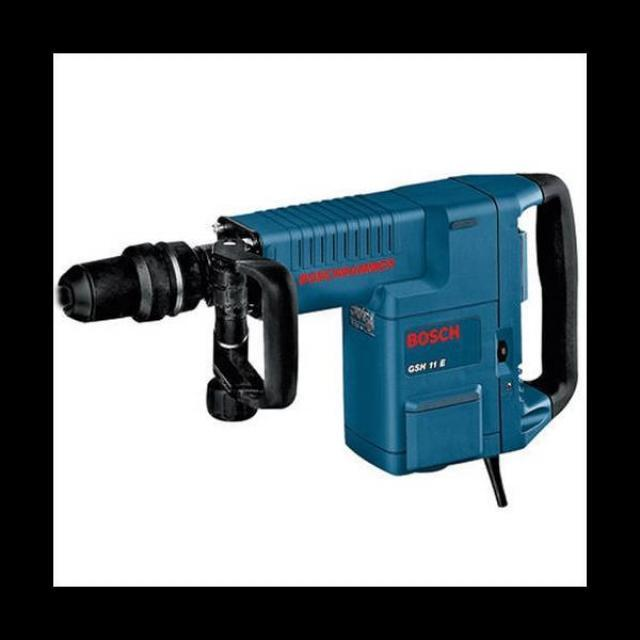drill: (57, 171, 581, 508)
